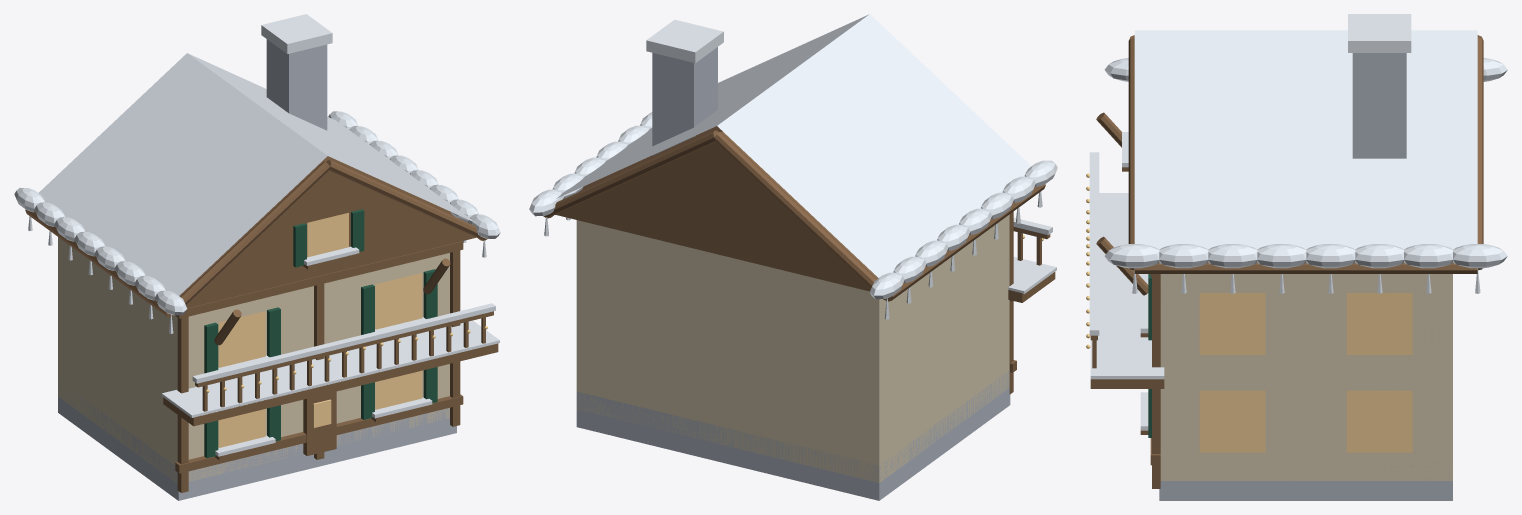
The model's file is chalet_a.glb.
The picture shows the model from 3 angles, left to right: view 1: azimuth 30°, elevation 25°; view 2: azimuth 150°, elevation 25°; view 3: azimuth 270°, elevation 25°; orthographic projection. The views are drawn at different scales.
Parts seen in each view (by area): view 1: chalet_a_snow, chalet_a_wood, chalet_a_cream, chalet_a_stone, chalet_a_window, chalet_a_green; view 2: chalet_a_cream, chalet_a_snow, chalet_a_wood, chalet_a_stone; view 3: chalet_a_snow, chalet_a_cream, chalet_a_window, chalet_a_stone, chalet_a_wood.
Boxes of the visible parts, box(x1,y1,x2,y2) form: chalet_a_snow: box(14, 14, 500, 456); chalet_a_wood: box(25, 156, 498, 492); chalet_a_cream: box(58, 237, 449, 482); chalet_a_stone: box(58, 39, 456, 500); chalet_a_window: box(218, 212, 422, 447); chalet_a_green: box(204, 209, 437, 458); chalet_a_cream: box(576, 214, 1009, 482); chalet_a_snow: box(529, 14, 1057, 319); chalet_a_wood: box(543, 126, 1055, 394); chalet_a_stone: box(576, 47, 1010, 500); chalet_a_snow: box(1089, 14, 1507, 430); chalet_a_cream: box(1160, 274, 1452, 480); chalet_a_window: box(1199, 293, 1412, 452); chalet_a_stone: box(1159, 53, 1452, 500); chalet_a_wood: box(1090, 35, 1483, 488).
Bounding box in the file's own units: 19.14 × 19.48 × 17.23.
